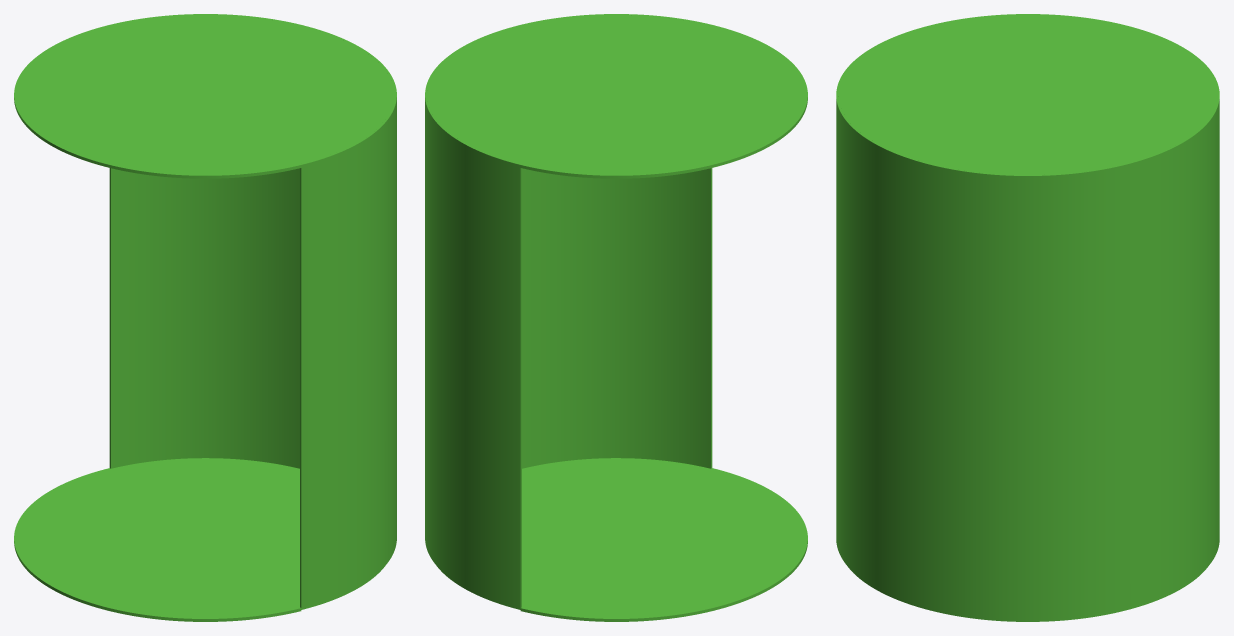
Rendered from cylinder_table.glb.
3 renders of one model, left to right at view 1: azimuth 30°, elevation 25°; view 2: azimuth 150°, elevation 25°; view 3: azimuth 270°, elevation 25°, orthographic.
Visible parts, largest first — view 1: body; view 2: body; view 3: body.
Part boxes in pixels (x1,y1,x2,y2): body: (14,14,396,621); body: (425,14,807,621); body: (836,14,1219,621).
Bounding box in the file's own units: 0.35 × 0.453 × 0.35.
